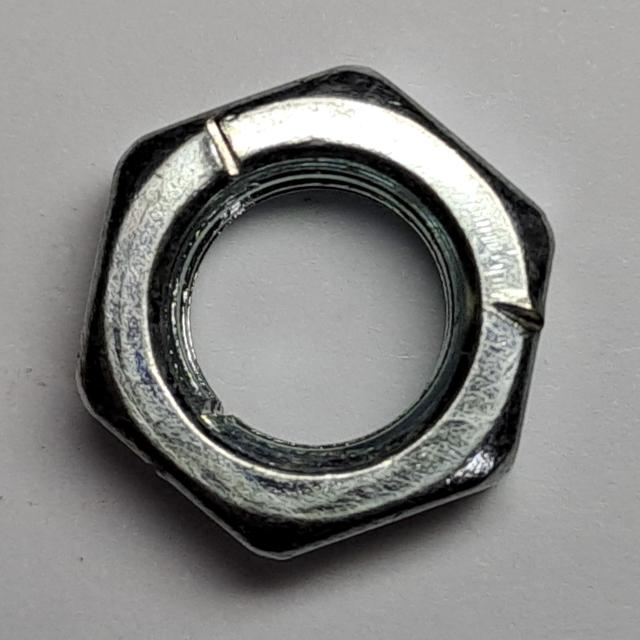Scratches: (53, 51, 566, 573)
